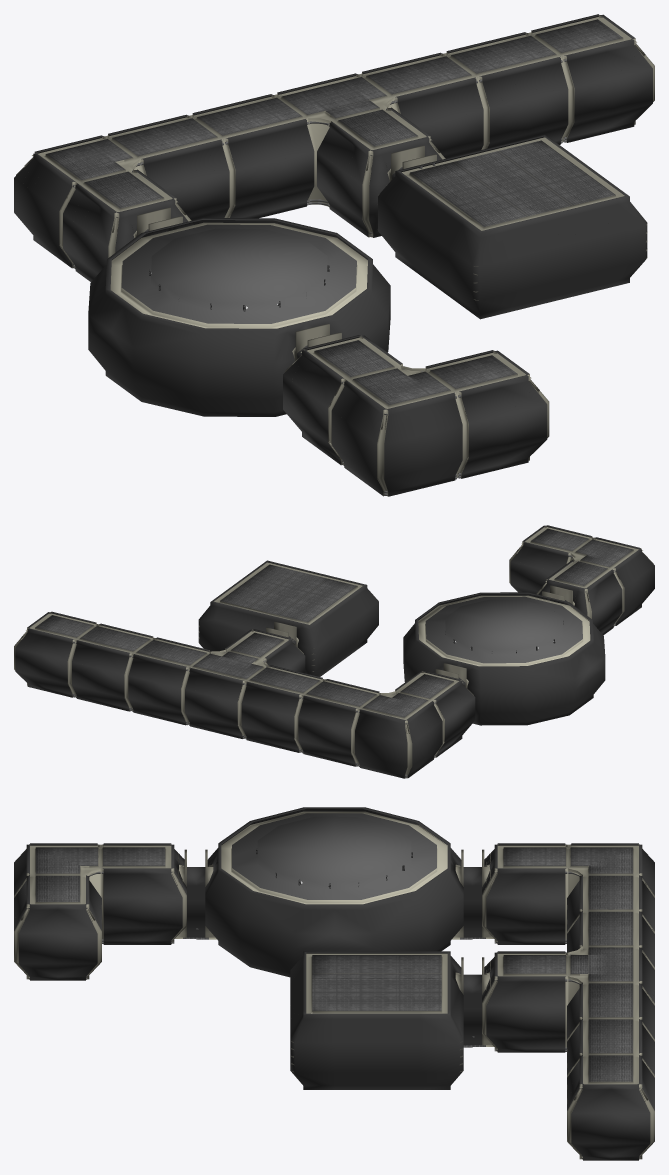
Rendered from Nostromo Test.glb.
3 renders of one model, top to bottom at view 1: azimuth 30°, elevation 25°; view 2: azimuth 150°, elevation 25°; view 3: azimuth 270°, elevation 25°, orthographic. The views are drawn at different scales.
Visible parts, largest first — view 1: Room_Big_Round_TwoDoor, Room_Medium_L.001, Hall_Light_90Turn, Hall_Light.001, Hall_End.002, Hall_End.003, Hall_NoLight.001, Hall_Door_End.003, Hall_NoLight.002, Hall_Door_End.002, Hall_Light.002, Hall_NoLight__90Turn.001 (+2 smaller); view 2: Room_Big_Round_TwoDoor, Room_Medium_L.001, Hall_NoLight__90Turn.001, Hall_Junction_T.001, Hall_Light.002, Hall_Light.001, Hall_NoLight.001, Hall_NoLight.002, Hall_End.003, Hall_Door_End.001, Hall_End.002, Hall_Light_90Turn (+2 smaller); view 3: Room_Big_Round_TwoDoor, Room_Medium_L.001, Hall_Door_End.003, Hall_Door_End.001, Hall_Door_End.002, Hall_End.003, Hall_End.002, Hall_Junction_T.001, Hall_Light.002, Hall_NoLight.001, Hall_NoLight.002, Hall_Light.001 (+2 smaller).
Part boxes in pixels (bbox=[...]): Room_Big_Round_TwoDoor: bbox=[88, 216, 390, 416]; Room_Medium_L.001: bbox=[378, 134, 647, 319]; Hall_Light_90Turn: bbox=[331, 366, 463, 496]; Hall_Light.001: bbox=[191, 94, 315, 218]; Hall_End.002: bbox=[424, 350, 549, 478]; Hall_End.003: bbox=[530, 14, 654, 142]; Hall_NoLight.001: bbox=[445, 32, 569, 149]; Hall_Door_End.003: bbox=[317, 107, 445, 237]; Hall_NoLight.002: bbox=[106, 114, 230, 220]; Hall_Door_End.002: bbox=[63, 169, 191, 281]; Hall_Light.002: bbox=[360, 52, 484, 158]; Hall_NoLight__90Turn.001: bbox=[14, 135, 140, 268]; Room_Big_Round_TwoDoor: bbox=[403, 591, 605, 725]; Room_Medium_L.001: bbox=[198, 560, 378, 676]; Hall_NoLight__90Turn.001: bbox=[354, 691, 442, 778]; Hall_Junction_T.001: bbox=[184, 650, 267, 738]; Hall_Light.002: bbox=[127, 637, 210, 725]; Hall_Light.001: bbox=[241, 665, 323, 752]; Hall_NoLight.001: bbox=[71, 623, 153, 711]; Hall_NoLight.002: bbox=[297, 679, 380, 766]; Hall_End.003: bbox=[14, 611, 97, 697]; Hall_Door_End.001: bbox=[536, 560, 622, 635]; Hall_End.002: bbox=[509, 525, 592, 593]; Hall_Light_90Turn: bbox=[570, 537, 654, 626]; Room_Big_Round_TwoDoor: bbox=[196, 807, 472, 977]; Room_Medium_L.001: bbox=[290, 951, 472, 1089]; Hall_Door_End.003: bbox=[472, 951, 568, 1052]; Hall_Door_End.001: bbox=[100, 843, 196, 944]; Hall_Door_End.002: bbox=[472, 843, 568, 944]; Hall_End.003: bbox=[567, 1055, 654, 1160]; Hall_End.002: bbox=[14, 875, 101, 980]; Hall_Junction_T.001: bbox=[568, 946, 654, 1005]; Hall_Light.002: bbox=[567, 983, 654, 1041]; Hall_NoLight.001: bbox=[567, 1019, 654, 1077]; Hall_NoLight.002: bbox=[567, 875, 654, 933]; Hall_Light.001: bbox=[567, 911, 654, 969].
Size of the model in its own units: 64.28 by 8.57 by 60.28.
14 materials, 12 textured.
